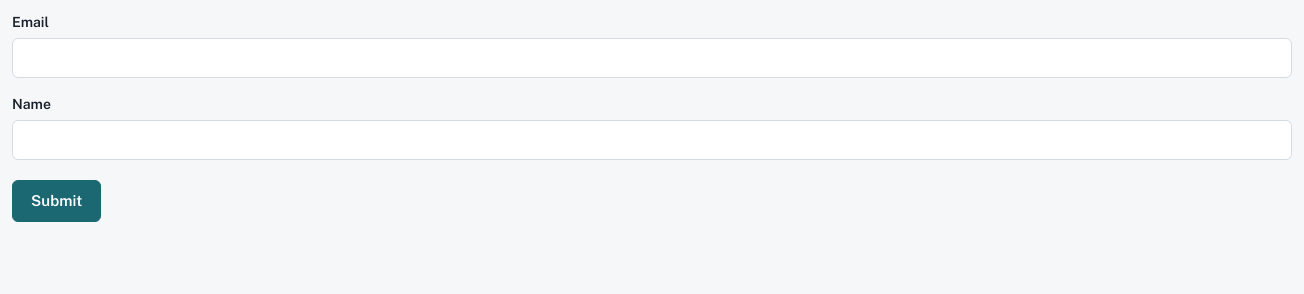
Test: server errors › shows errors returned by onSubmit inline and clears them as the user edits
Type "a@b.c" into the field labelled "Email" at (652, 58), box [12, 38, 1292, 78]
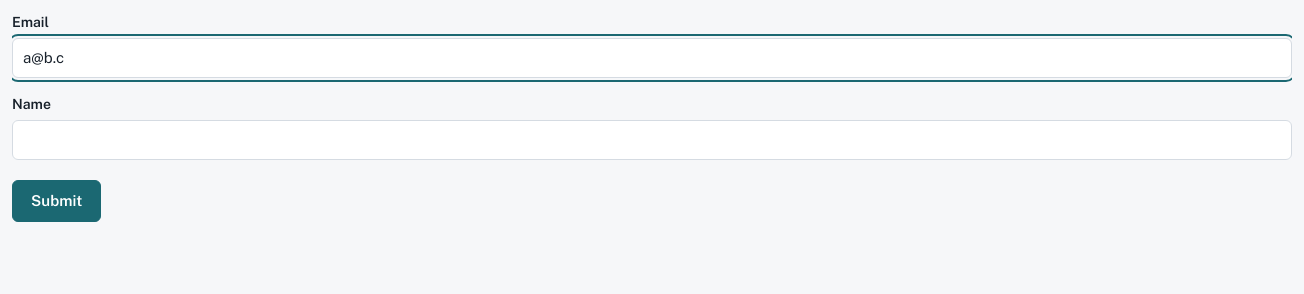
Click the button "Submit" at (57, 201), box [12, 180, 101, 222]
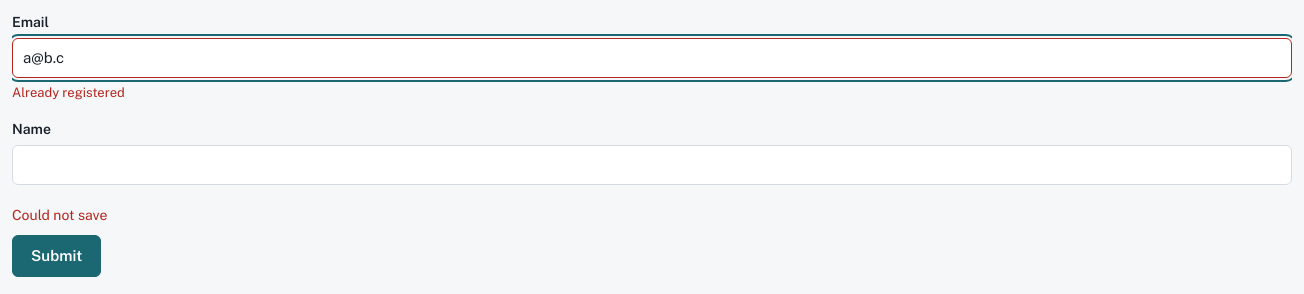
Check: the text "Already registered" is shown, box [12, 85, 125, 100]
Check: the text "Could not save" is shown, box [12, 205, 107, 225]
Type "d" into the field labelled "Email" at (652, 58), box [12, 38, 1292, 78]
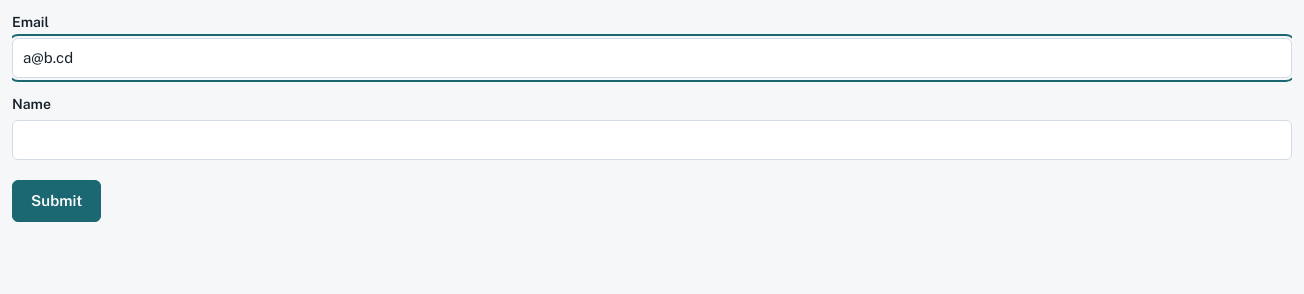
Check: the text "Already registered" is gone
Check: the text "Could not save" is gone
